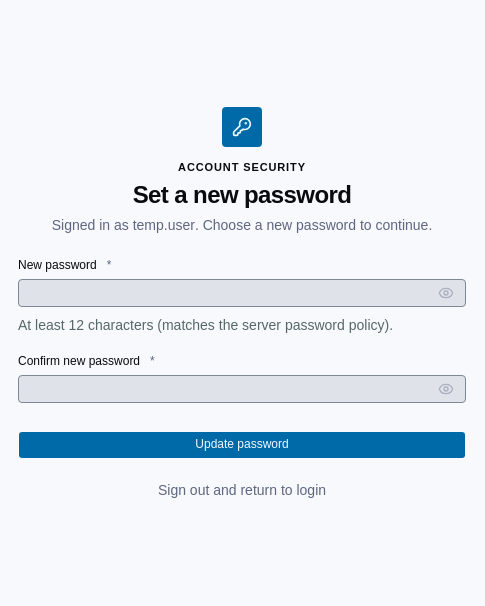
Test: ChangePasswordPage › announces validation errors and focuses the first invalid field on submit
This screenshot has width=485, height=606.
Click the button "Update password" at (242, 445), box [18,431,466,459]
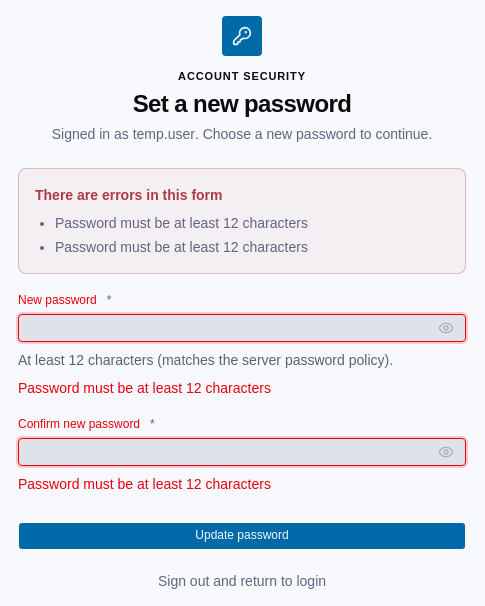
Expected: the message shows "errors in this form", [35,187,222,203]
